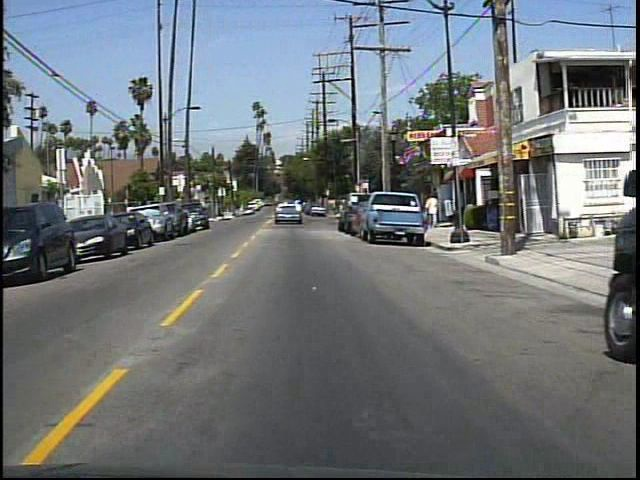person: (426, 190, 442, 230)
